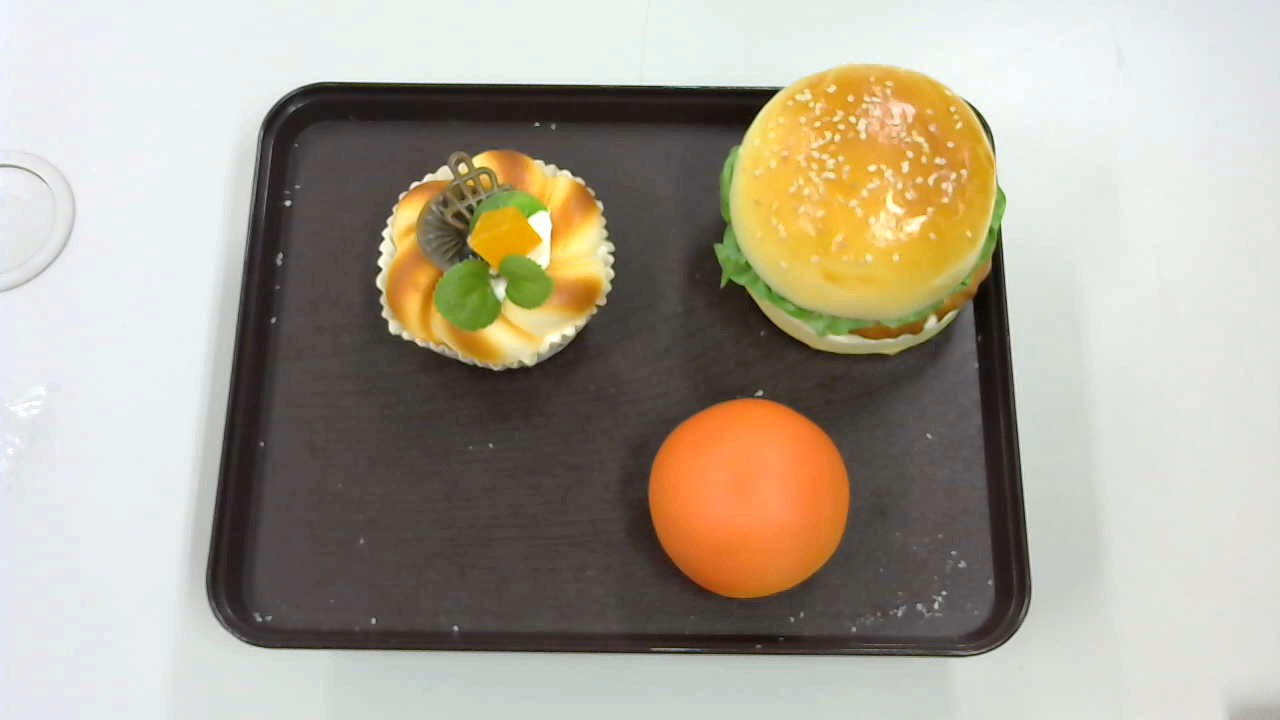bun: (645, 398, 849, 600)
fruit tart: (377, 148, 613, 370)
hamburger: (714, 62, 1007, 357)
